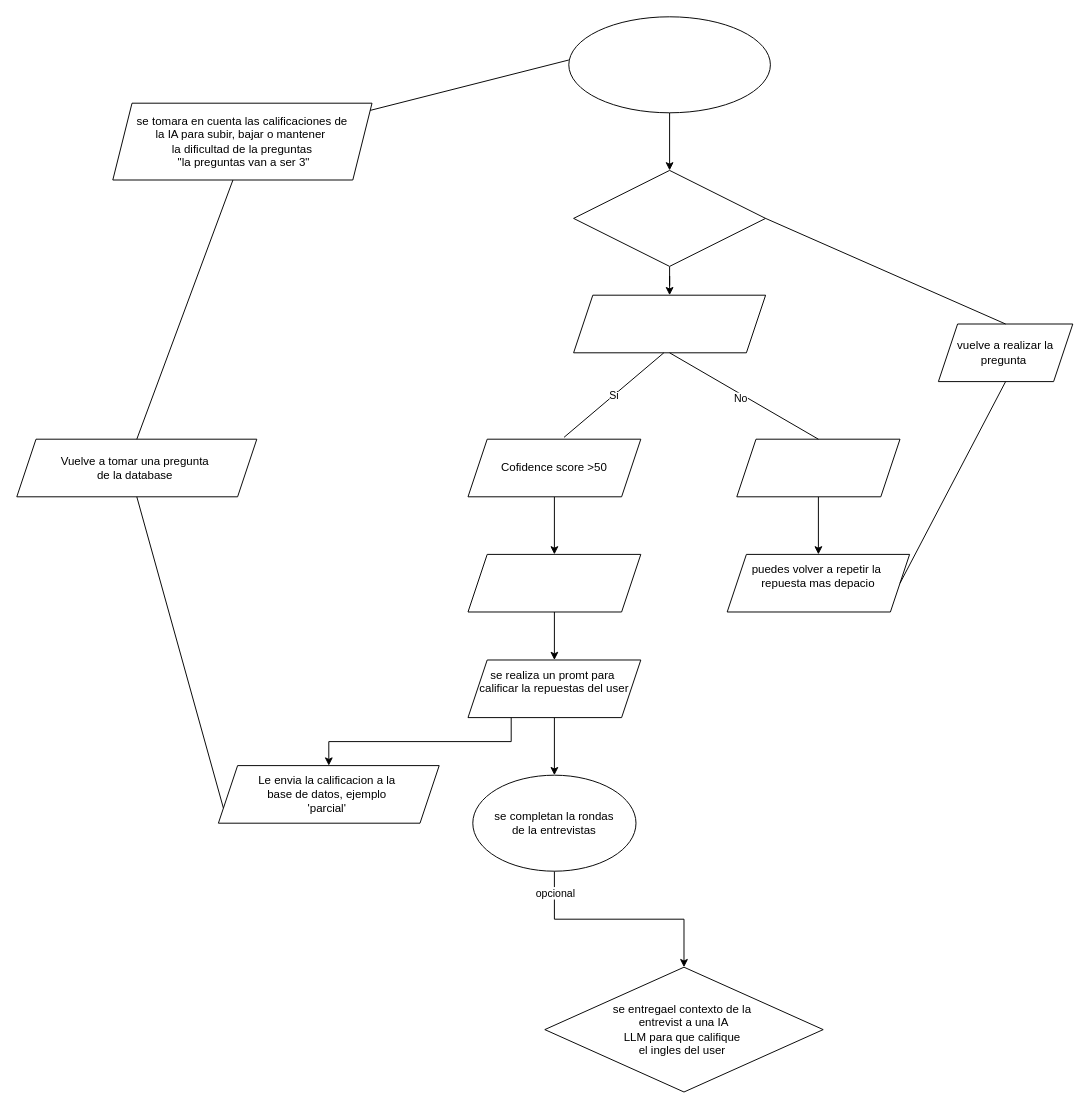
This 1090x1109 diagram has some shape labels left out. Each missing label, with the centre of its shape:
"cofidence score < 50" belongs at point 818,467.
"Pregunta inicial" belongs at point 669,217.
"se captura la respuesta y se transcribe con ASR" belongs at point 669,323.
"se realiza un promt para correguir tecnicismos" belongs at point 554,582.
"Se toma una pregunta de la db" belongs at point 669,64.
